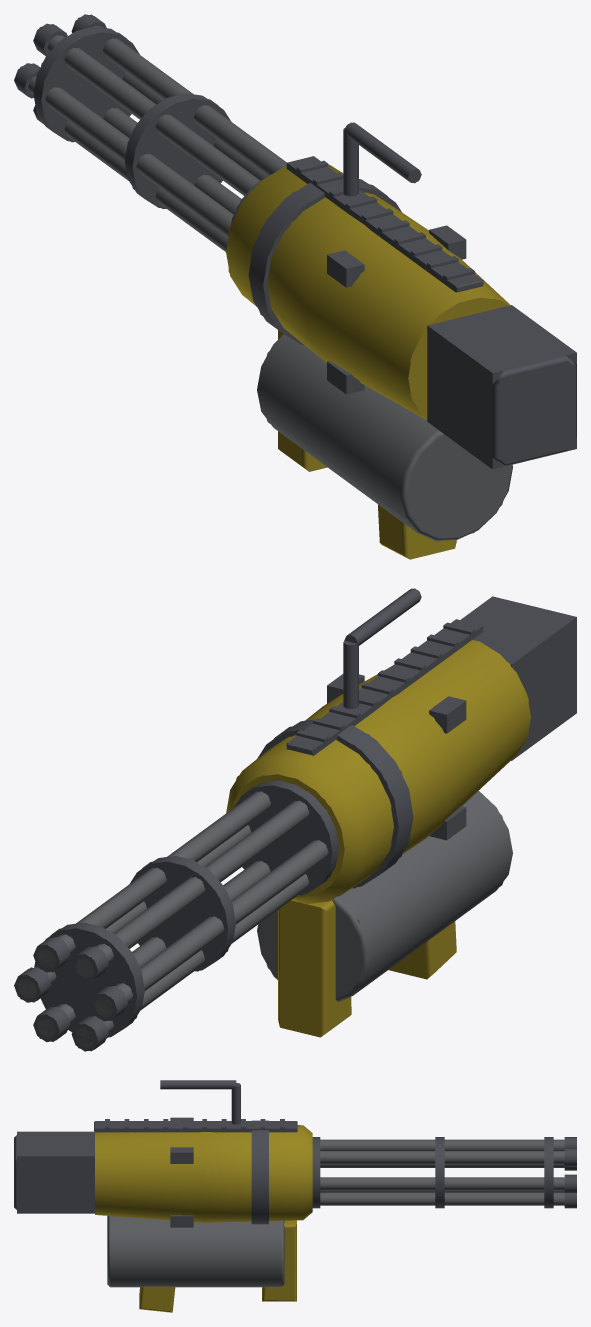
File: r_grinder.glb
The picture shows the model from 3 angles, top to bottom: view 1: azimuth 30°, elevation 25°; view 2: azimuth 150°, elevation 25°; view 3: azimuth 270°, elevation 25°; orthographic projection. The views are drawn at different scales.
Visible parts, largest first — view 1: L0, L1; view 2: L0, L1; view 3: L0, L1.
Boxes of the visible parts, <box> form: L0: <box>14,14,576,559</box>; L1: <box>20,14,576,541</box>; L0: <box>14,588,576,1051</box>; L1: <box>14,588,576,1051</box>; L0: <box>14,1080,576,1312</box>; L1: <box>17,1080,576,1282</box>.
Bounding box in the file's own units: 0.1333 × 0.3202 × 0.724.
